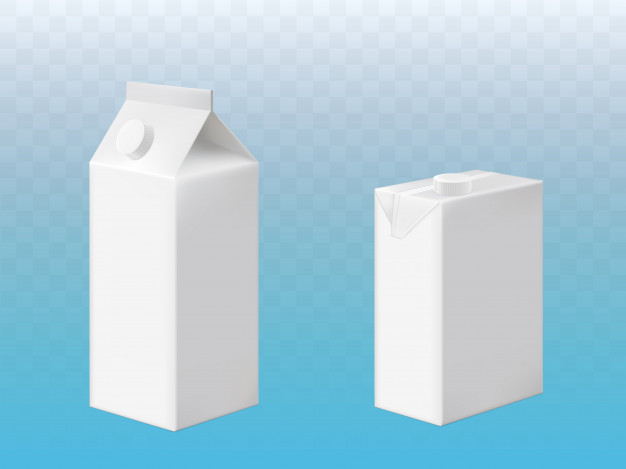carton: (87, 80, 263, 432), (370, 167, 547, 427)
